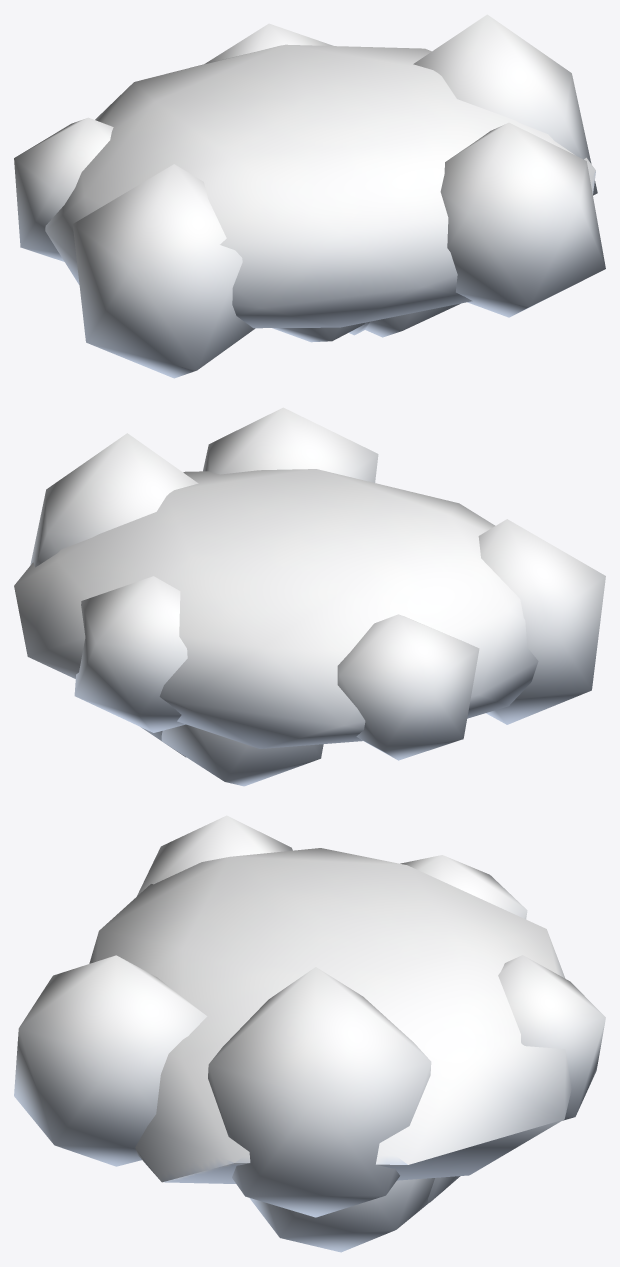
File: cloud_island_b.gltf
3 views of the same model, one above another, from view 1: azimuth 30°, elevation 25°; view 2: azimuth 150°, elevation 25°; view 3: azimuth 270°, elevation 25° (orthographic). The views are drawn at different scales.
Parts seen in each view (by area): view 1: cloud_island_b; view 2: cloud_island_b; view 3: cloud_island_b.
Part boxes in pixels (x1,y1,x2,y2): cloud_island_b: [14, 14, 605, 378]; cloud_island_b: [14, 407, 605, 786]; cloud_island_b: [14, 815, 605, 1252].
Bounding box in the file's own units: 3.11 × 1.76 × 2.79.
1 material, 1 textured.
